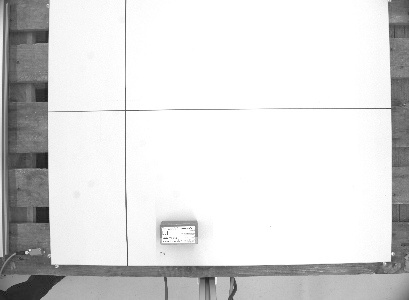b3: (158, 219, 200, 247)
